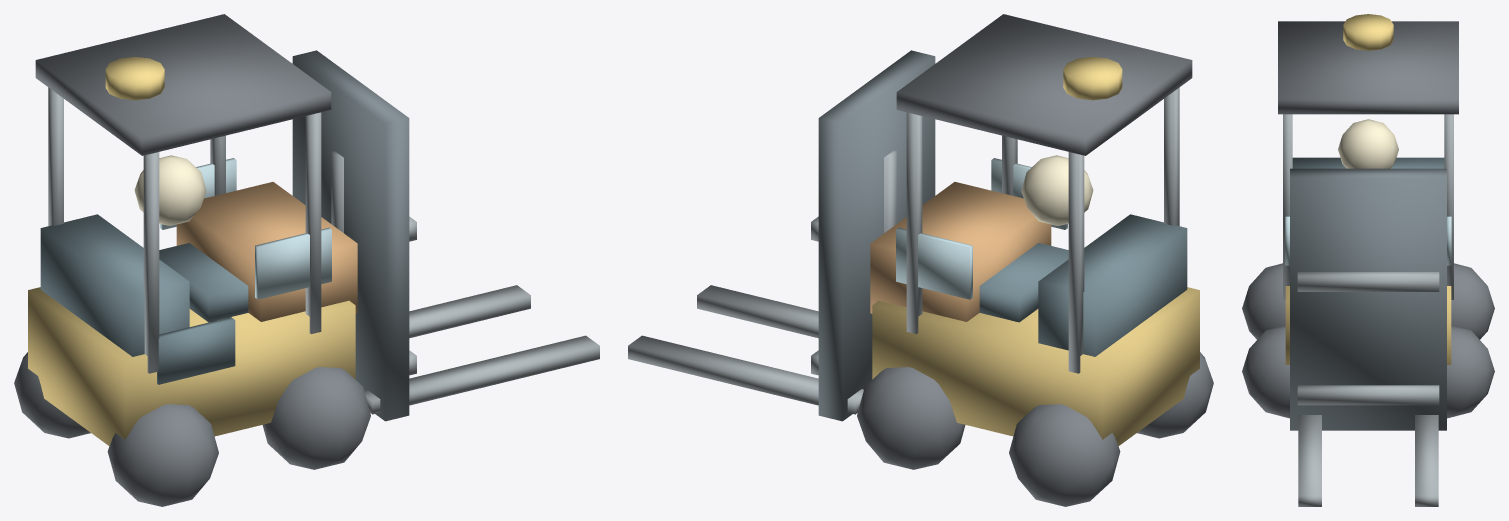
File: mercy_forklift.glb
The picture shows the model from 3 angles, left to right: view 1: azimuth 30°, elevation 25°; view 2: azimuth 150°, elevation 25°; view 3: azimuth 270°, elevation 25°; orthographic projection. The views are drawn at different scales.
Visible parts, largest first — view 1: MERCY_BLACK_03, MERCY_GOLD_00, MERCY_DARKSTEEL_06, MERCY_NAVY_02, MERCY_STEEL_05, MERCY_ORANGE_01, MERCY_GLASS_09, MERCY_LAMP_07, MERCY_YELLOW_08; view 2: MERCY_BLACK_03, MERCY_GOLD_00, MERCY_DARKSTEEL_06, MERCY_STEEL_05, MERCY_NAVY_02, MERCY_ORANGE_01, MERCY_GLASS_09, MERCY_LAMP_07, MERCY_YELLOW_08; view 3: MERCY_DARKSTEEL_06, MERCY_BLACK_03, MERCY_STEEL_05, MERCY_LAMP_07, MERCY_YELLOW_08, MERCY_NAVY_02, MERCY_GOLD_00, MERCY_GLASS_09.
Boxes of the visible parts, <box> form: MERCY_BLACK_03: <box>14,14,370,506</box>; MERCY_GOLD_00: <box>28,287,355,446</box>; MERCY_DARKSTEEL_06: <box>292,50,409,421</box>; MERCY_NAVY_02: <box>40,214,248,384</box>; MERCY_STEEL_05: <box>48,87,599,414</box>; MERCY_ORANGE_01: <box>176,182,357,321</box>; MERCY_GLASS_09: <box>160,158,331,299</box>; MERCY_LAMP_07: <box>134,155,206,225</box>; MERCY_YELLOW_08: <box>105,57,164,100</box>; MERCY_BLACK_03: <box>857,14,1213,506</box>; MERCY_GOLD_00: <box>872,287,1199,446</box>; MERCY_DARKSTEEL_06: <box>818,50,935,421</box>; MERCY_STEEL_05: <box>628,87,1179,414</box>; MERCY_NAVY_02: <box>979,214,1187,356</box>; MERCY_ORANGE_01: <box>870,182,1051,321</box>; MERCY_GLASS_09: <box>896,158,1067,299</box>; MERCY_LAMP_07: <box>1021,155,1093,225</box>; MERCY_YELLOW_08: <box>1063,57,1122,100</box>; MERCY_DARKSTEEL_06: <box>1290,168,1446,430</box>; MERCY_BLACK_03: <box>1242,21,1494,418</box>; MERCY_STEEL_05: <box>1283,114,1453,506</box>; MERCY_LAMP_07: <box>1338,119,1398,168</box>; MERCY_YELLOW_08: <box>1343,14,1393,50</box>; MERCY_NAVY_02: <box>1292,157,1444,168</box>; MERCY_GOLD_00: <box>1285,286,1451,364</box>; MERCY_GLASS_09: <box>1285,216,1451,265</box>.
Bounding box in the file's own units: 3.45 × 2.65 × 1.82.
